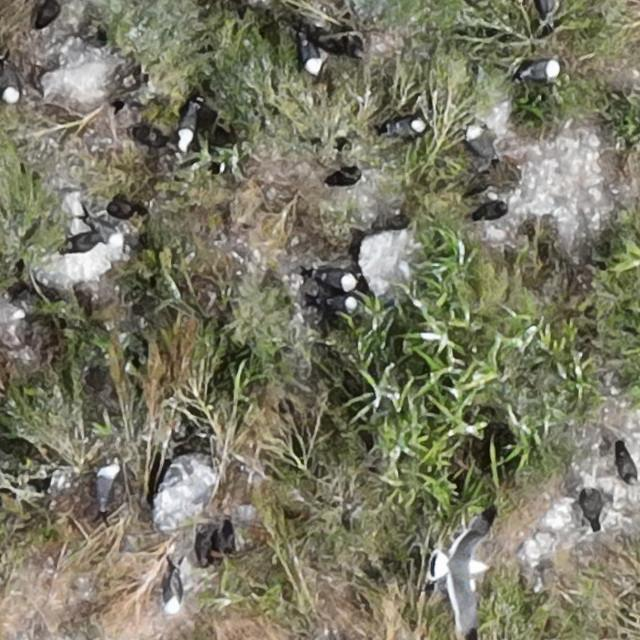F: (434, 528, 488, 628)
umineko: (468, 126, 497, 164), (92, 218, 126, 248), (162, 565, 182, 613), (0, 57, 20, 103), (180, 105, 200, 147), (95, 463, 116, 502), (523, 60, 559, 79), (319, 270, 351, 290), (301, 40, 320, 73), (389, 119, 422, 135), (326, 295, 356, 311), (540, 0, 556, 19)
